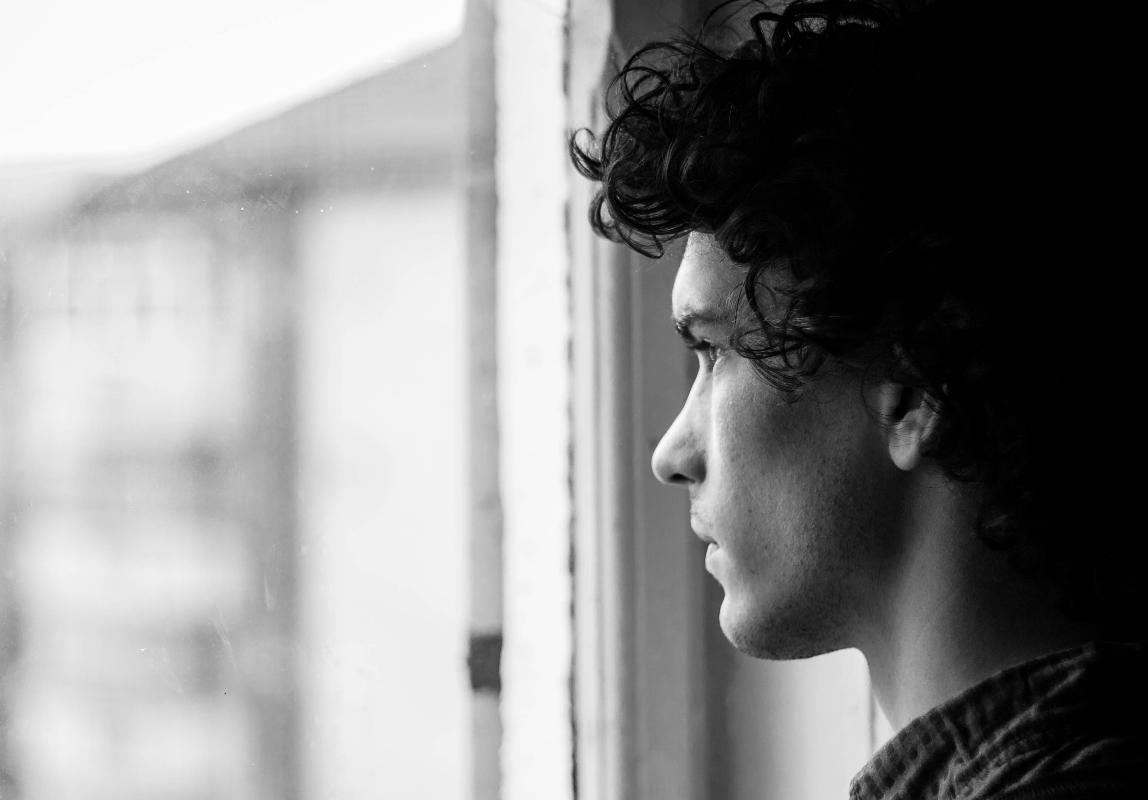Person: (593, 1, 1138, 800)
